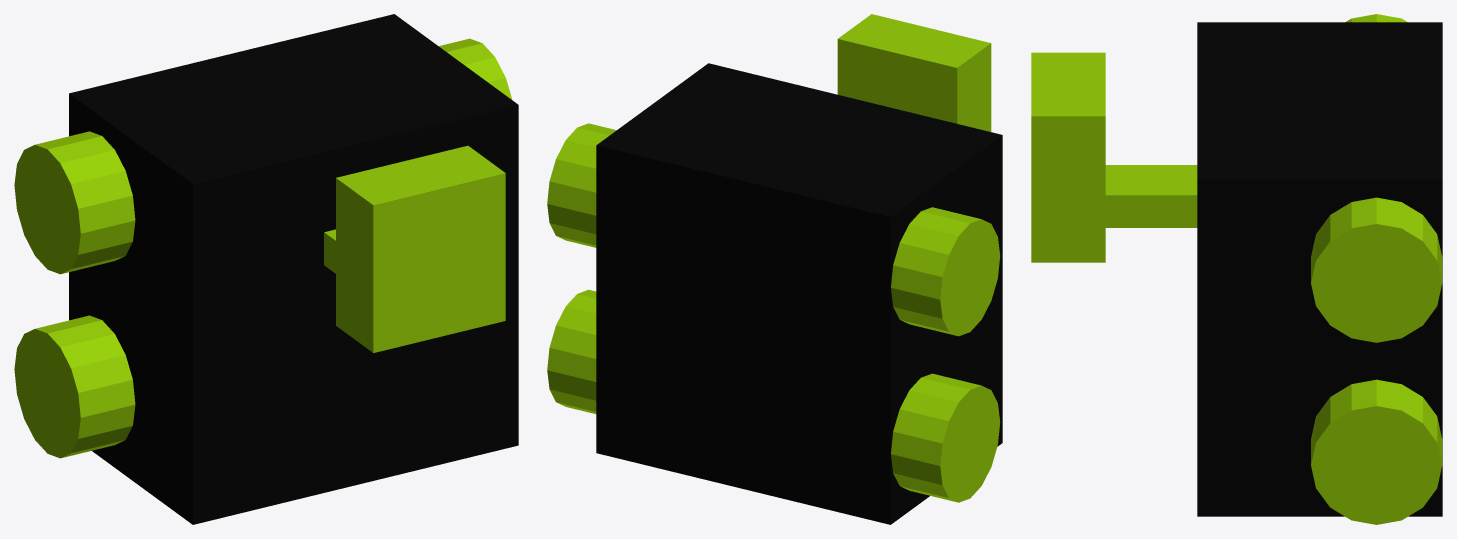
File: robot.obj
The picture shows the model from 3 angles, left to right: view 1: azimuth 30°, elevation 25°; view 2: azimuth 150°, elevation 25°; view 3: azimuth 270°, elevation 25°; orthographic projection. The views are drawn at different scales.
Visible parts, largest first — view 1: Robot; view 2: Robot; view 3: Robot.
Part boxes in pixels (<box>): Robot: <box>14,14,518,524</box>; Robot: <box>547,14,1002,524</box>; Robot: <box>1031,14,1442,524</box>.
Bounding box in the file's own units: 0.6679 × 0.5244 × 0.553.
